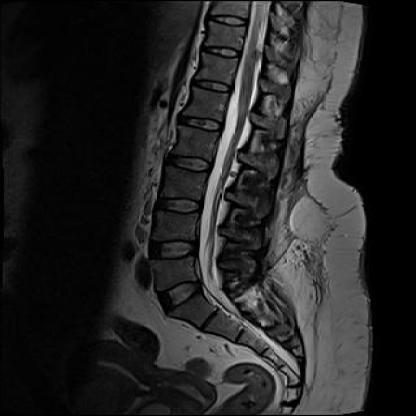Disc Bulgerotation: (154, 280, 212, 312)
